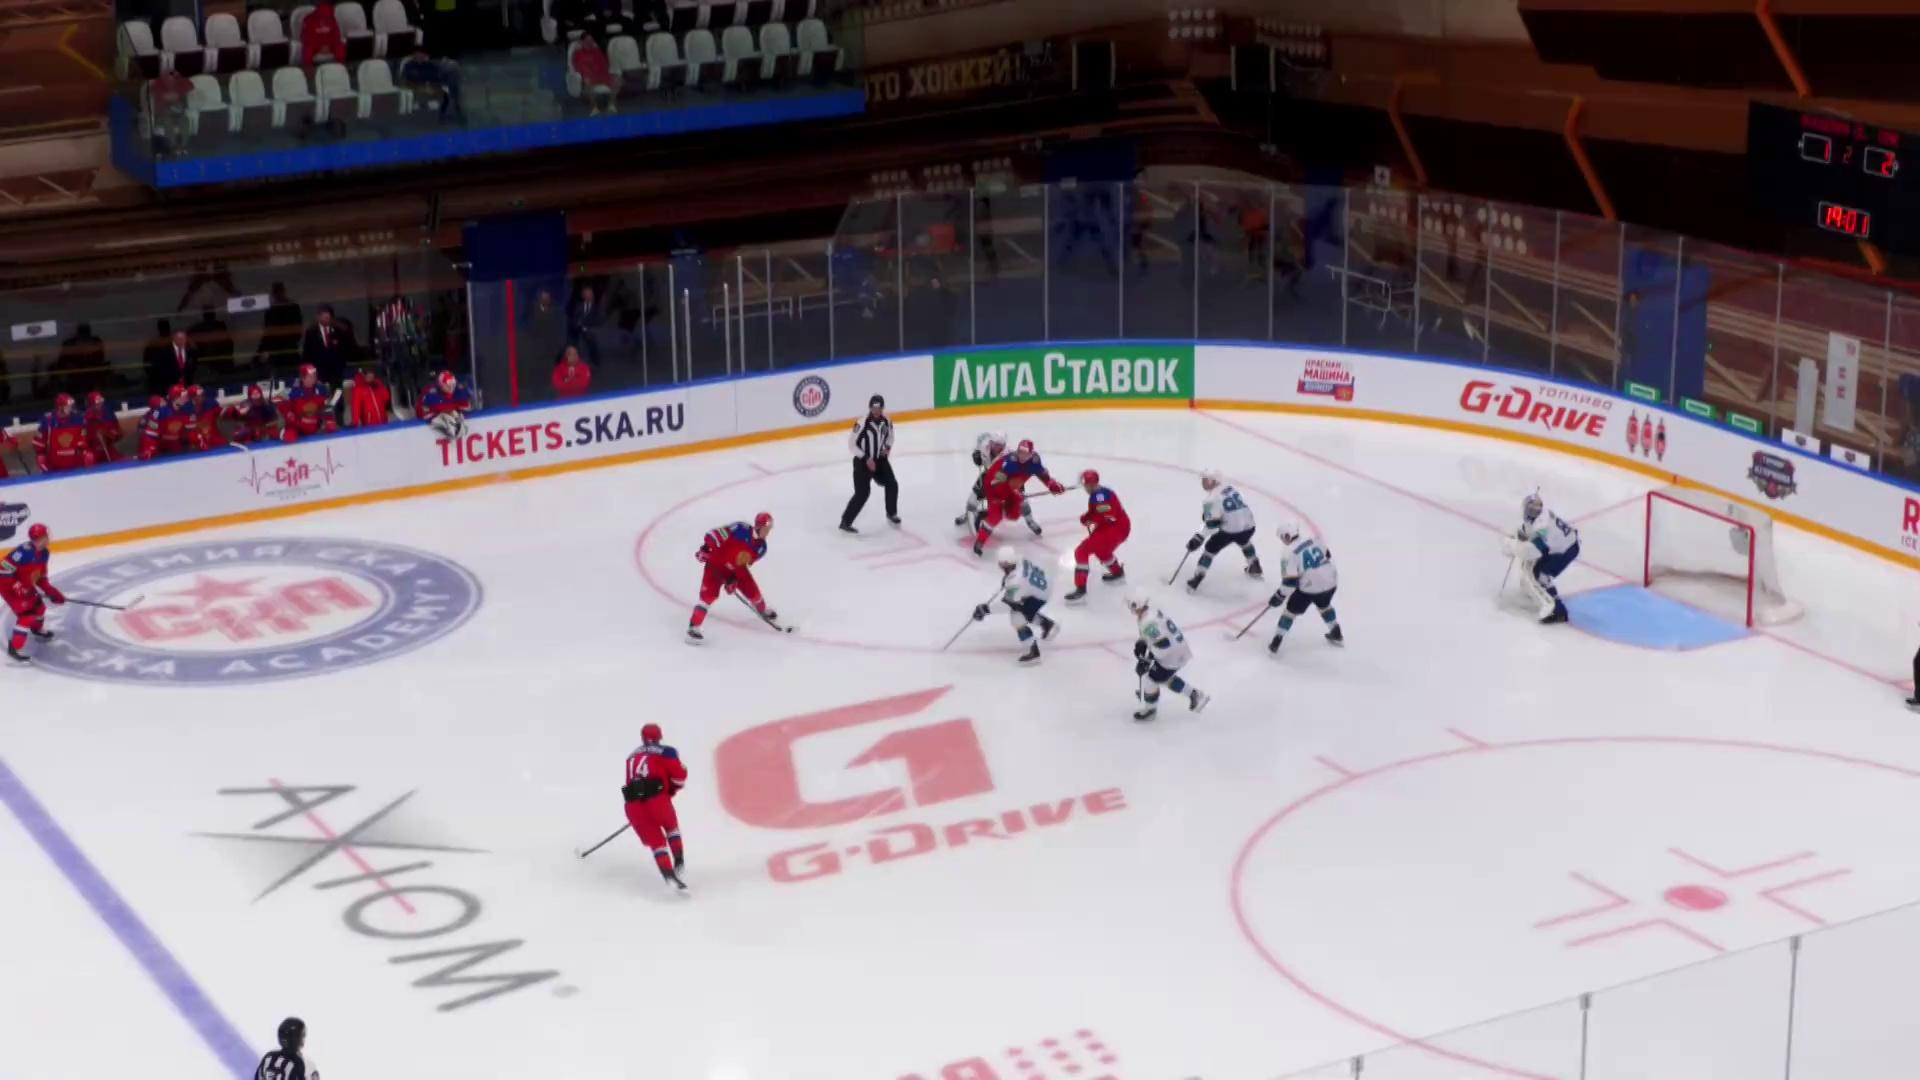ball: (786, 628, 794, 633)
